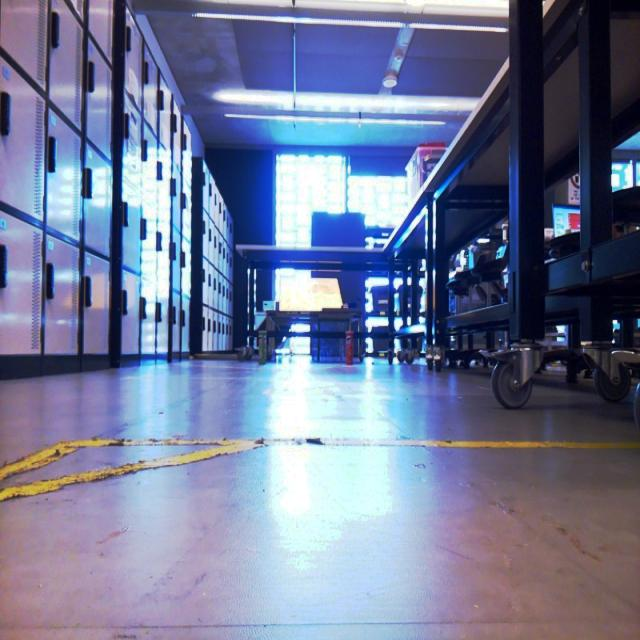greenpringles: (253, 327, 277, 365)
redpringles: (337, 325, 359, 365)
